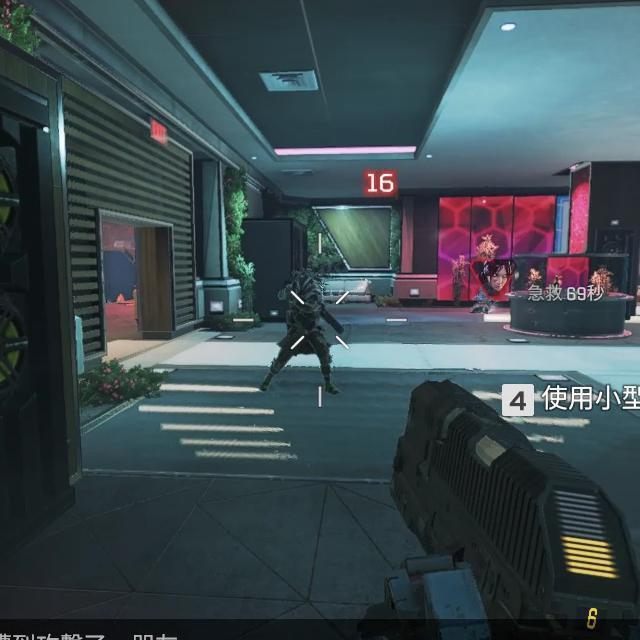avatar: (274, 269, 335, 396)
